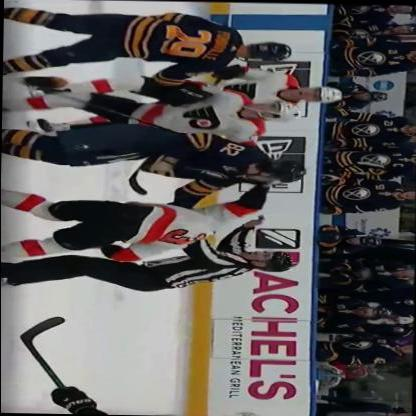non-Voilence: (3, 7, 292, 84)
voilence: (1, 122, 307, 264)
